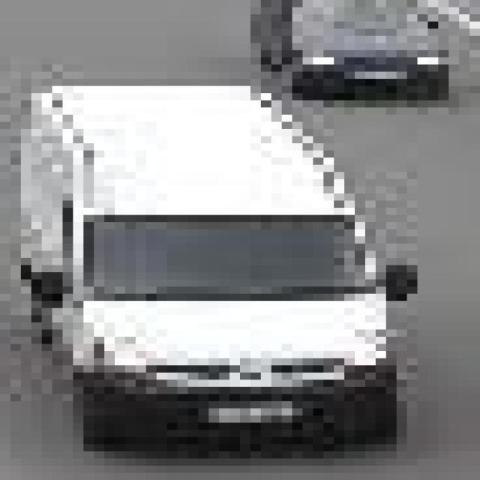car: (256, 0, 444, 100)
van: (26, 86, 392, 452)
